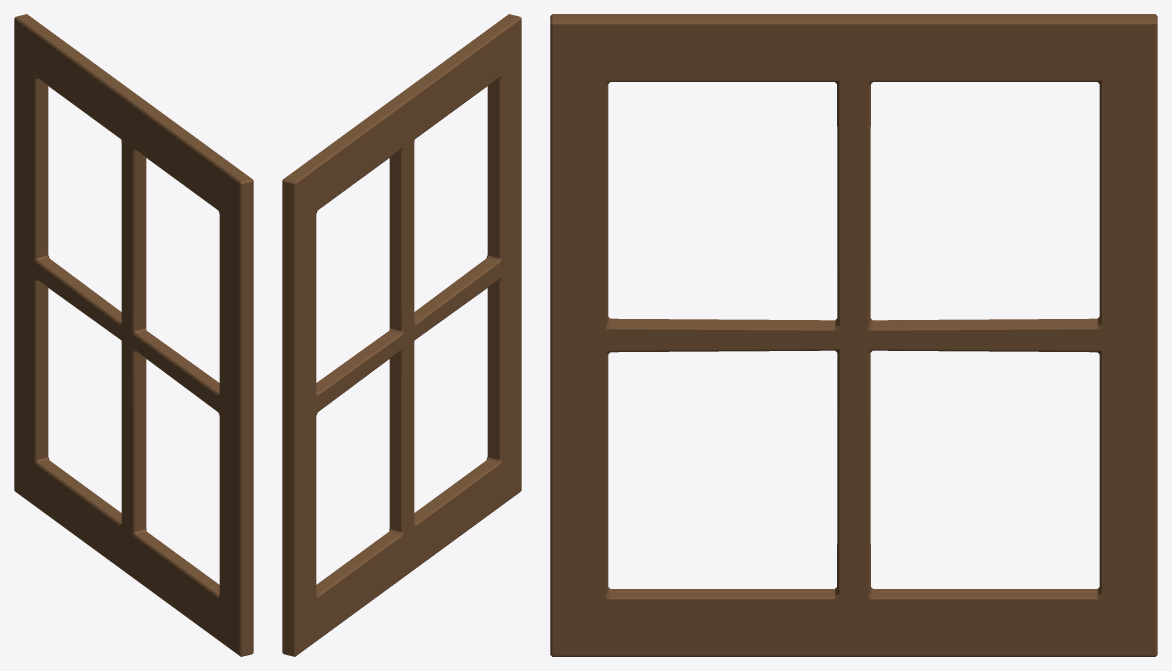
The model's file is FensterEsstisch2.fbx.
3 renders of one model, left to right at view 1: azimuth 30°, elevation 25°; view 2: azimuth 150°, elevation 25°; view 3: azimuth 270°, elevation 25°, orthographic. The views are drawn at different scales.
Parts seen in each view (by area): view 1: Fenster_Rahmen_Wohnzimmer2; view 2: Fenster_Rahmen_Wohnzimmer2; view 3: Fenster_Rahmen_Wohnzimmer2.
Boxes of the visible parts, bbox=[...] form: Fenster_Rahmen_Wohnzimmer2: bbox=[14, 14, 253, 656]; Fenster_Rahmen_Wohnzimmer2: bbox=[282, 14, 521, 656]; Fenster_Rahmen_Wohnzimmer2: bbox=[550, 14, 1157, 656].
Bounding box in the file's own units: 3.68 × 121 × 104.
